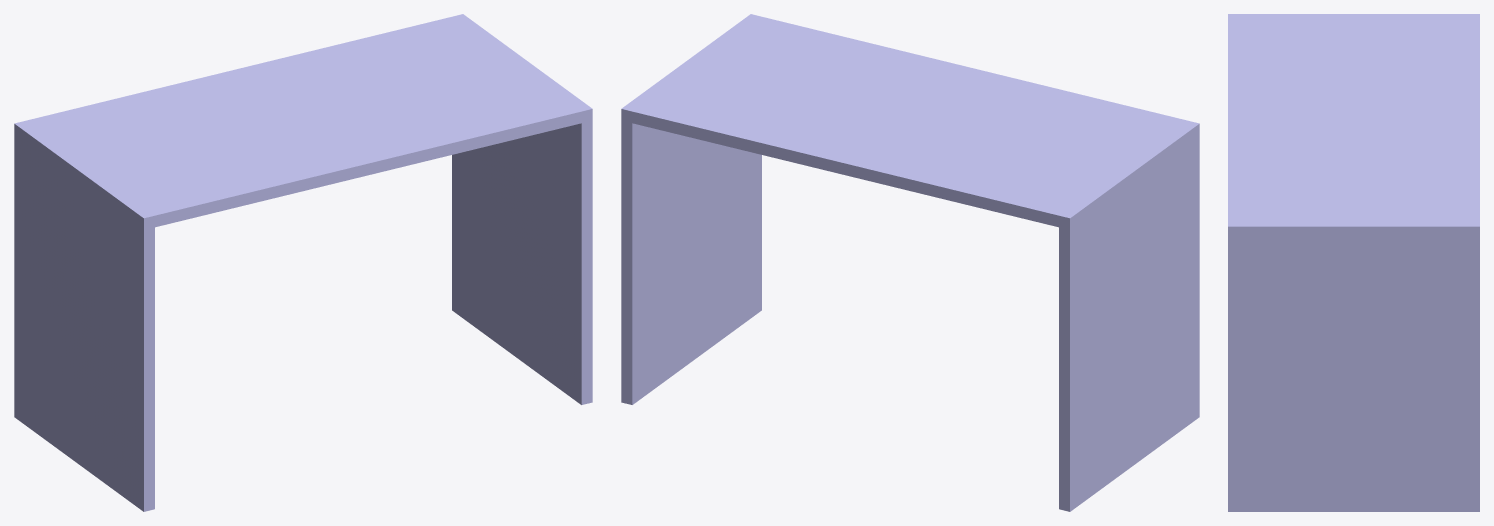
Rendered from table.gltf.
3 renders of one model, left to right at view 1: azimuth 30°, elevation 25°; view 2: azimuth 150°, elevation 25°; view 3: azimuth 270°, elevation 25°, orthographic. The views are drawn at different scales.
Visible parts, largest first — view 1: root; view 2: root; view 3: root.
Part boxes in pixels (x1,y1,x2,y2): root: (14, 14, 592, 511); root: (621, 14, 1199, 511); root: (1228, 14, 1479, 511).
Size of the model in its own units: 1.2 by 0.75 by 0.6.
